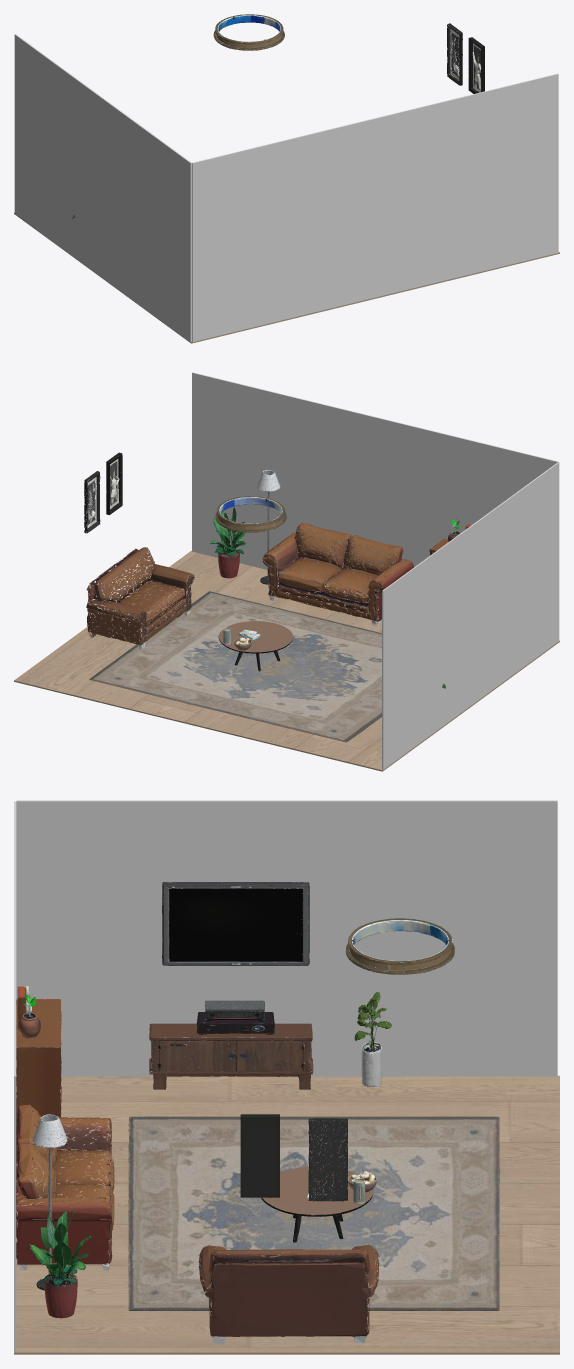
Rendered from image-livingroom.glb.
3 views of the same model, one above another, from view 1: azimuth 30°, elevation 25°; view 2: azimuth 150°, elevation 25°; view 3: azimuth 270°, elevation 25° (orthographic). The views are drawn at different scales.
Parts seen in each view (by area): view 1: wall_north_01, wall_east_01, geometry_0, geometry_0.002, geometry_0.001, floor_01; view 2: wall_north_01, wall_east_01, geometry_0.012, floor_01, geometry_0.010, geometry_0.006, geometry_0.004, geometry_0, geometry_0.008, geometry_0.002, geometry_0.001, geometry_0.005; view 3: wall_east_01, floor_01, geometry_0.012, geometry_0.006, geometry_0.003, geometry_0.010, geometry_0.007, geometry_0.011, geometry_0.002, geometry_0.001, geometry_0.008, geometry_0 (+5 smaller).
Boxes of the visible parts, left/top/right/bottom form: wall_north_01: left=192, top=73, right=558, bottom=341; wall_east_01: left=14, top=34, right=191, bottom=342; geometry_0: left=213, top=14, right=284, bottom=50; geometry_0.002: left=468, top=37, right=484, bottom=93; geometry_0.001: left=447, top=23, right=462, bottom=85; floor_01: left=14, top=212, right=559, bottom=343; wall_north_01: left=192, top=372, right=558, bottom=595; wall_east_01: left=382, top=462, right=559, bottom=769; geometry_0.012: left=89, top=591, right=381, bottom=742; floor_01: left=14, top=550, right=559, bottom=771; geometry_0.010: left=262, top=523, right=413, bottom=625; geometry_0.006: left=86, top=547, right=194, bottom=649; geometry_0.004: left=218, top=621, right=293, bottom=671; geometry_0: left=215, top=496, right=286, bottom=532; geometry_0.008: left=210, top=507, right=245, bottom=578; geometry_0.002: left=106, top=452, right=122, bottom=514; geometry_0.001: left=84, top=471, right=100, bottom=533; geometry_0.005: left=257, top=470, right=280, bottom=584; wall_east_01: left=16, top=800, right=557, bottom=1076; floor_01: left=14, top=1075, right=559, bottom=1354; geometry_0.012: left=128, top=1116, right=499, bottom=1310; geometry_0.006: left=198, top=1245, right=379, bottom=1343; geometry_0.003: left=162, top=882, right=309, bottom=965; geometry_0.010: left=16, top=1104, right=114, bottom=1270; geometry_0.007: left=149, top=1012, right=313, bottom=1089; geometry_0.011: left=16, top=999, right=62, bottom=1159; geometry_0.002: left=240, top=1114, right=279, bottom=1197; geometry_0.001: left=308, top=1118, right=347, bottom=1201; geometry_0.008: left=28, top=1210, right=90, bottom=1318; geometry_0: left=345, top=918, right=454, bottom=974.
Size of the model in its own units: 6.04 by 2.81 by 5.
Materials: 21 (21 with a texture image).
